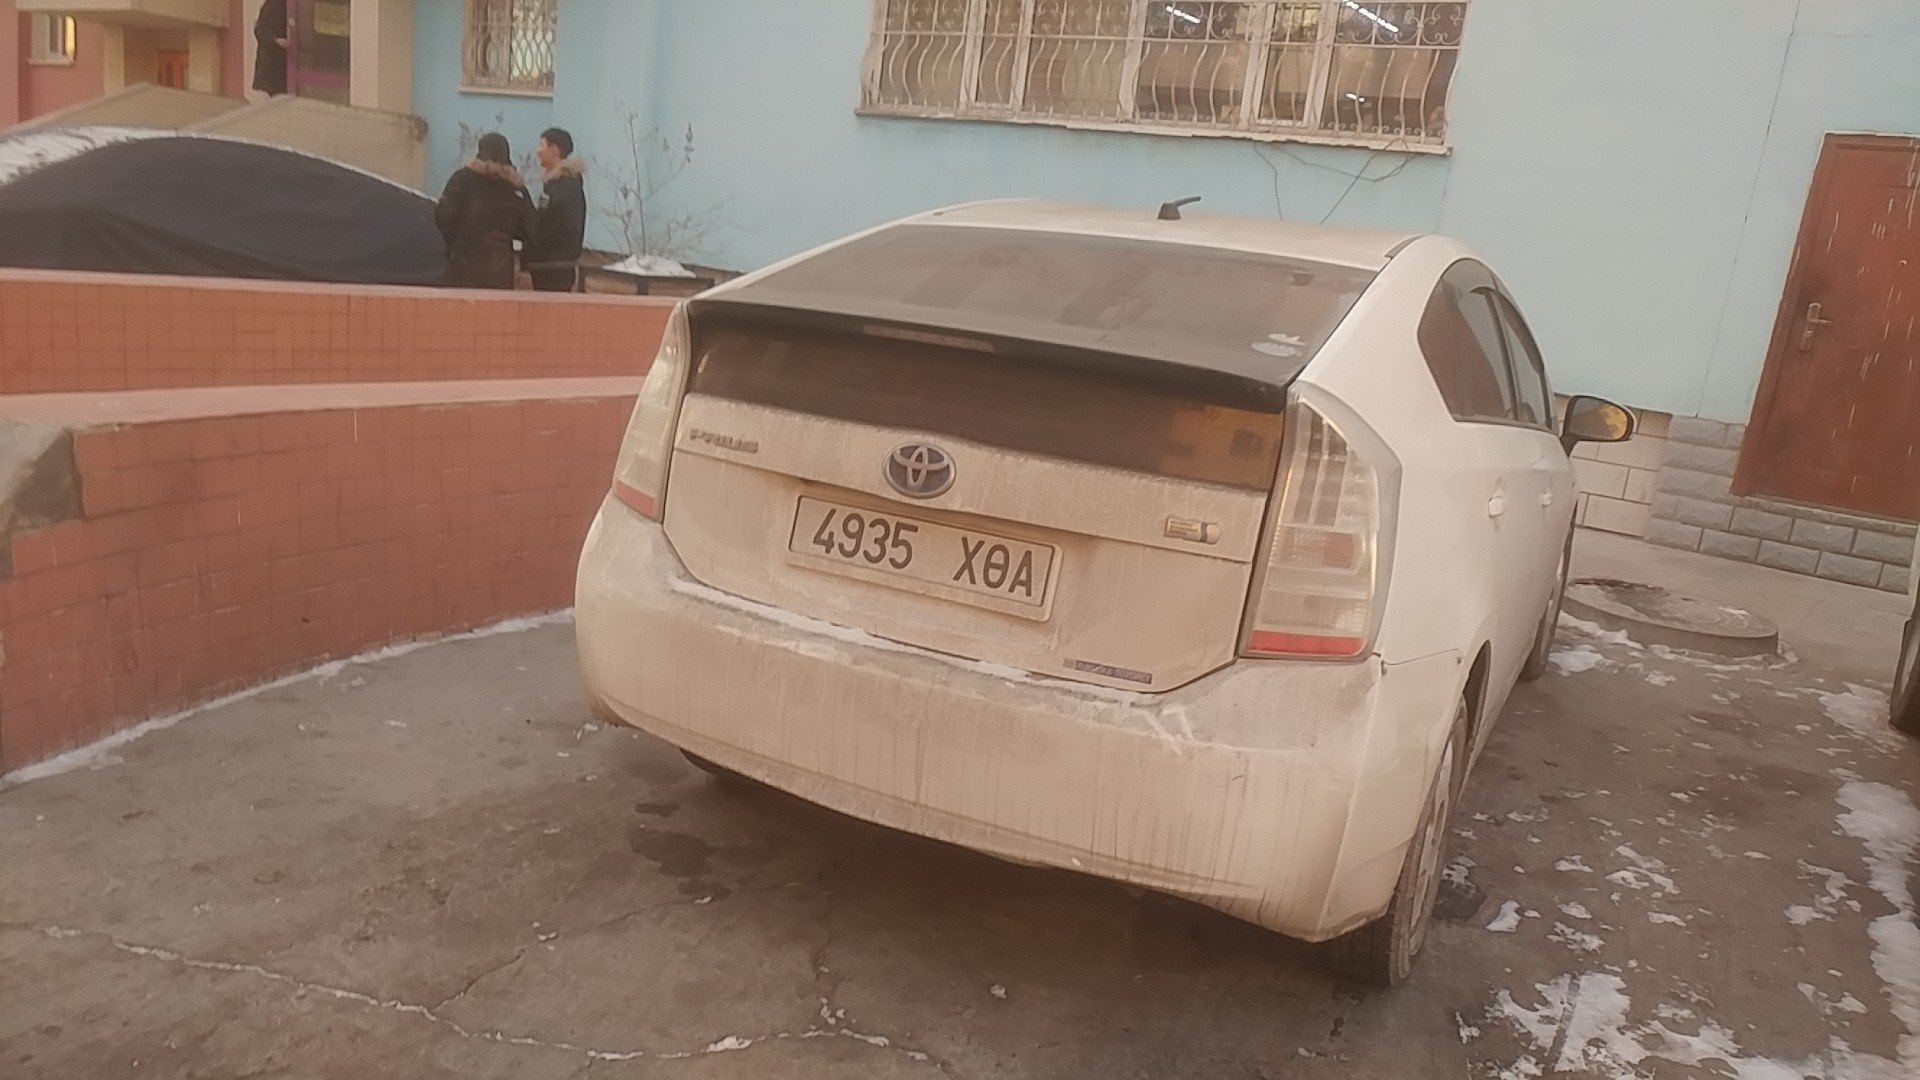3: (863, 517, 891, 564)
4: (813, 506, 840, 554)
5: (888, 521, 920, 570)
9: (838, 511, 866, 559)
a: (1007, 547, 1037, 597)
h: (954, 537, 986, 587)
plate: (786, 487, 1062, 625)
q: (983, 543, 1009, 589)
